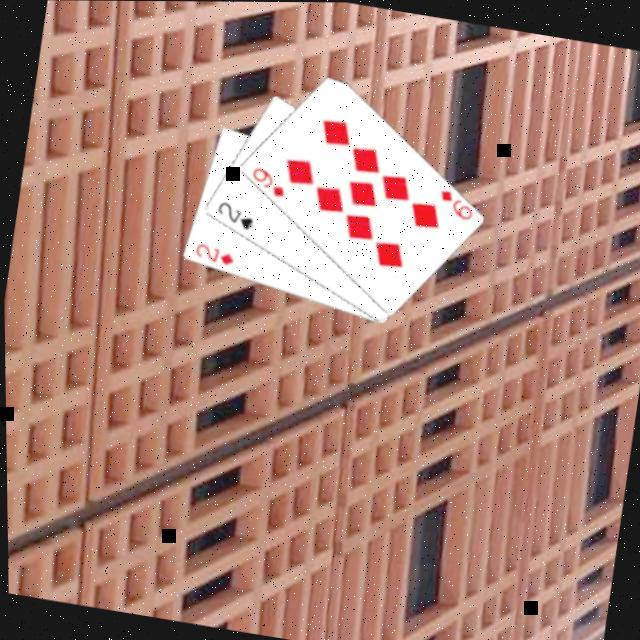2D: (188, 240, 235, 271)
2S: (208, 200, 256, 236)
9D: (242, 164, 288, 202), (430, 187, 476, 225)
